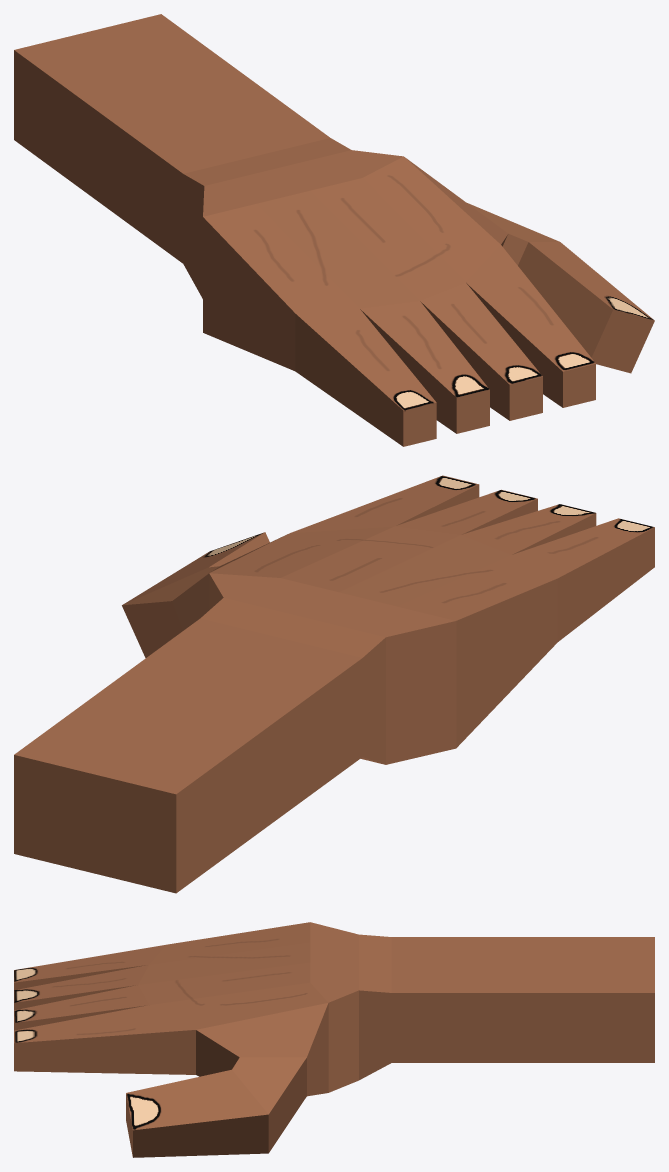
File: Hand.obj
3 renders of one model, top to bottom at view 1: azimuth 30°, elevation 25°; view 2: azimuth 150°, elevation 25°; view 3: azimuth 270°, elevation 25°, orthographic. The views are drawn at different scales.
Parts seen in each view (by area): view 1: Cube.001; view 2: Cube.001; view 3: Cube.001.
Boxes of the visible parts, left/top/right/bottom form: Cube.001: left=14, top=14, right=654, bottom=446; Cube.001: left=14, top=475, right=654, bottom=893; Cube.001: left=14, top=922, right=654, bottom=1157.
Bounding box in the file's own units: 0.438 × 0.1892 × 0.9252.
Materials: 1 (1 with a texture image).
